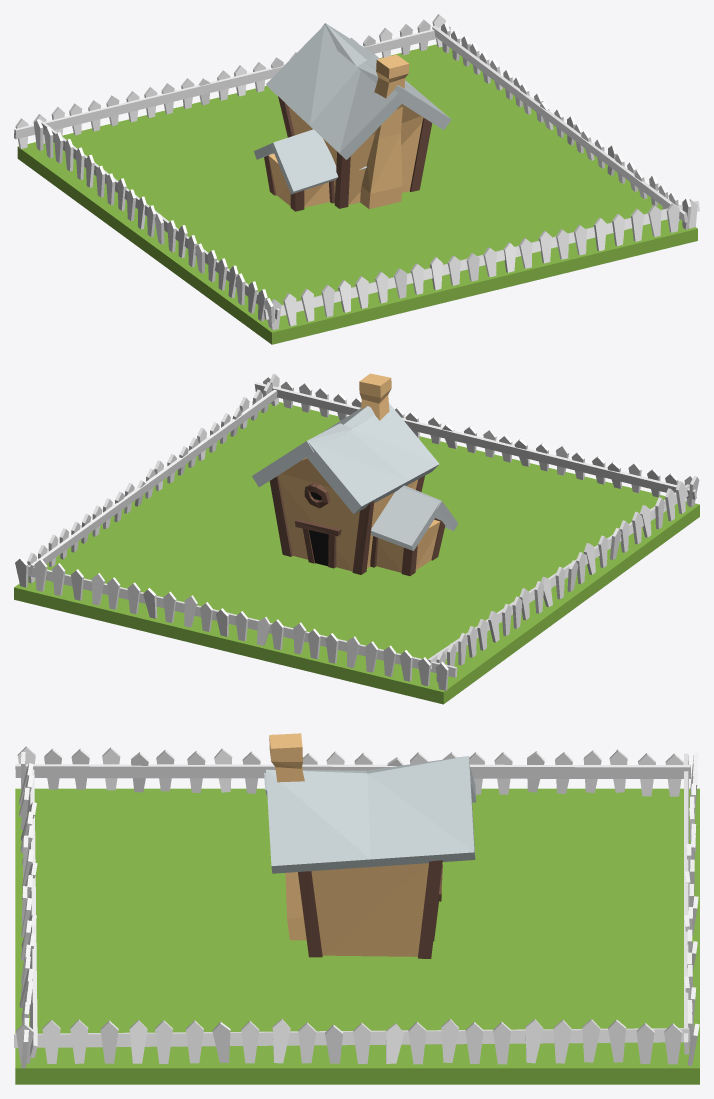
Rendered from scene_XDrZfkb7Ym.glb.
3 views of the same model, one above another, from view 1: azimuth 30°, elevation 25°; view 2: azimuth 150°, elevation 25°; view 3: azimuth 270°, elevation 25° (orthographic). The views are drawn at different scales.
Parts seen in each view (by area): view 1: group1510574352, group925804725, group1865352637, group555172972, group315709941, group844310191, group1644776486, group1576307836, group2122267088, group48822769, group1467704728, group971171973 (+1 smaller); view 2: group1510574352, group925804725, group1644776486, group2122267088, group1411457819, group844310191, group555172972, group1576307836, group48822769, group1865352637, group1467704728, group1125832583 (+2 smaller); view 3: group1510574352, group1576307836, group1644776486, group1467704728, group844310191, group1865352637, group498885737, group2122267088, group971171973, group555172972, group1954824374, group705408211 (+21 smaller).
Part boxes in pixels (<box>): group1510574352: <box>17,44,697,344</box>; group925804725: <box>266,25,404,159</box>; group1865352637: <box>360,54,409,209</box>; group555172972: <box>14,25,450,139</box>; group315709941: <box>271,129,366,194</box>; group844310191: <box>432,25,687,222</box>; group1644776486: <box>288,104,423,204</box>; group1576307836: <box>321,23,451,129</box>; group2122267088: <box>263,201,699,319</box>; group48822769: <box>268,154,329,207</box>; group1467704728: <box>38,119,280,319</box>; group971171973: <box>410,118,432,191</box>; group1510574352: <box>14,402,699,704</box>; group925804725: <box>306,403,439,513</box>; group1644776486: <box>278,457,418,571</box>; group2122267088: <box>254,382,696,499</box>; group1411457819: <box>371,487,440,550</box>; group844310191: <box>29,383,283,574</box>; group555172972: <box>17,565,457,677</box>; group1576307836: <box>252,406,374,487</box>; group48822769: <box>376,519,440,572</box>; group1865352637: <box>359,373,391,420</box>; group1467704728: <box>427,484,689,669</box>; group1125832583: <box>352,501,374,574</box>; group1510574352: <box>15,788,699,1084</box>; group1576307836: <box>266,756,475,873</box>; group1644776486: <box>311,863,428,956</box>; group1467704728: <box>15,764,690,778</box>; group844310191: <box>14,1028,689,1047</box>; group1865352637: <box>269,733,306,940</box>; group498885737: <box>418,860,442,958</box>; group2122267088: <box>27,769,37,1058</box>; group971171973: <box>298,871,322,957</box>; group555172972: <box>684,753,689,1054</box>; group1954824374: <box>272,1019,290,1063</box>; group705408211: <box>129,1020,147,1063</box>.
Bounding box in the file's own units: 1.52 × 0.5456 × 1.52.
